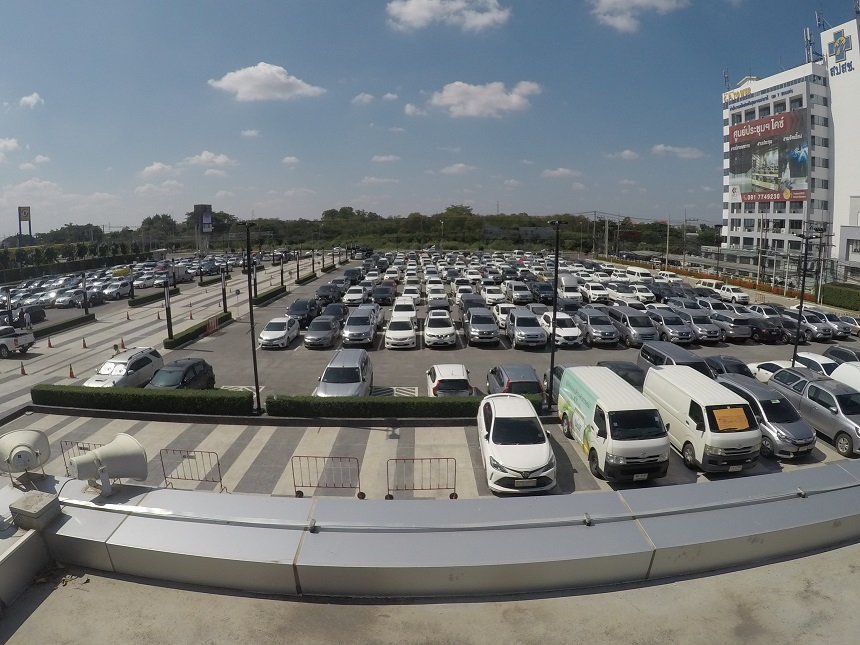busy: (598, 433, 672, 481), (693, 422, 764, 472), (484, 439, 556, 485), (312, 363, 371, 396), (95, 349, 145, 384), (772, 424, 816, 463), (159, 366, 214, 391), (491, 364, 539, 389), (428, 368, 471, 392), (832, 413, 860, 448), (507, 326, 546, 348), (699, 353, 741, 373), (464, 322, 498, 345), (303, 326, 335, 350), (604, 361, 642, 381), (255, 327, 291, 348), (343, 324, 375, 346), (385, 329, 415, 350), (545, 362, 580, 380), (664, 324, 693, 345), (655, 349, 688, 367), (588, 326, 619, 345), (626, 323, 658, 341), (425, 328, 455, 347), (554, 328, 583, 346), (724, 318, 749, 338), (757, 322, 780, 341), (830, 347, 856, 362), (758, 359, 782, 374), (801, 352, 825, 367), (697, 324, 719, 340), (832, 321, 851, 336), (812, 325, 828, 340), (789, 327, 803, 341)
